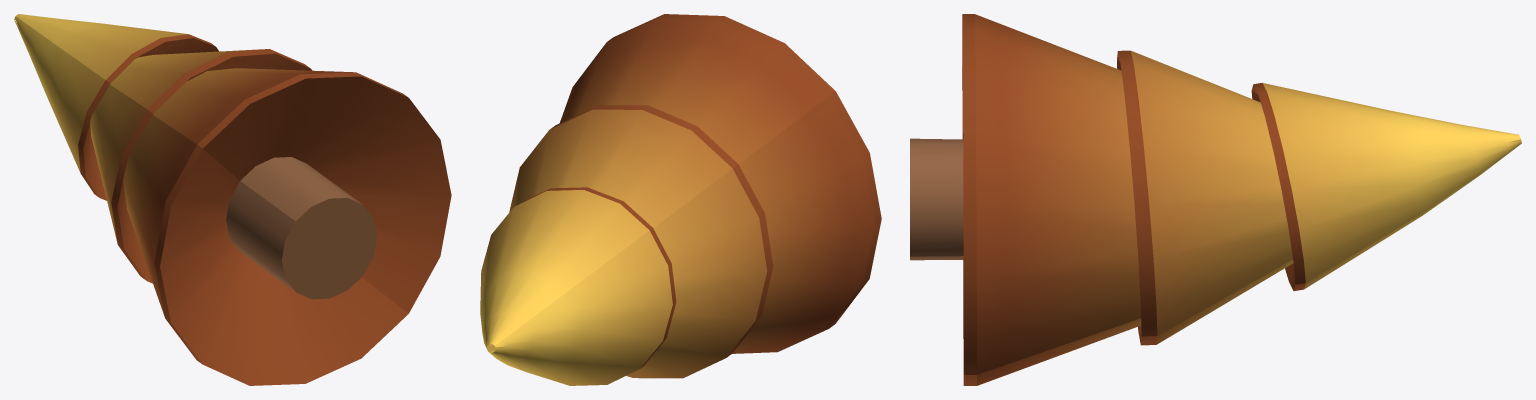
The model's file is tree2.glb.
3 renders of one model, left to right at view 1: azimuth 30°, elevation 25°; view 2: azimuth 150°, elevation 25°; view 3: azimuth 270°, elevation 25°, orthographic. The views are drawn at different scales.
Visible parts, largest first — view 1: Props_Color_3_Mat.030; view 2: Props_Color_3_Mat.030; view 3: Props_Color_3_Mat.030.
Part boxes in pixels (x1,y1,x2,y2): Props_Color_3_Mat.030: (14, 14, 451, 385); Props_Color_3_Mat.030: (480, 14, 881, 385); Props_Color_3_Mat.030: (910, 14, 1521, 385).
Size of the model in its own units: 374 by 374 by 615.
Materials: 1 (1 with a texture image).
